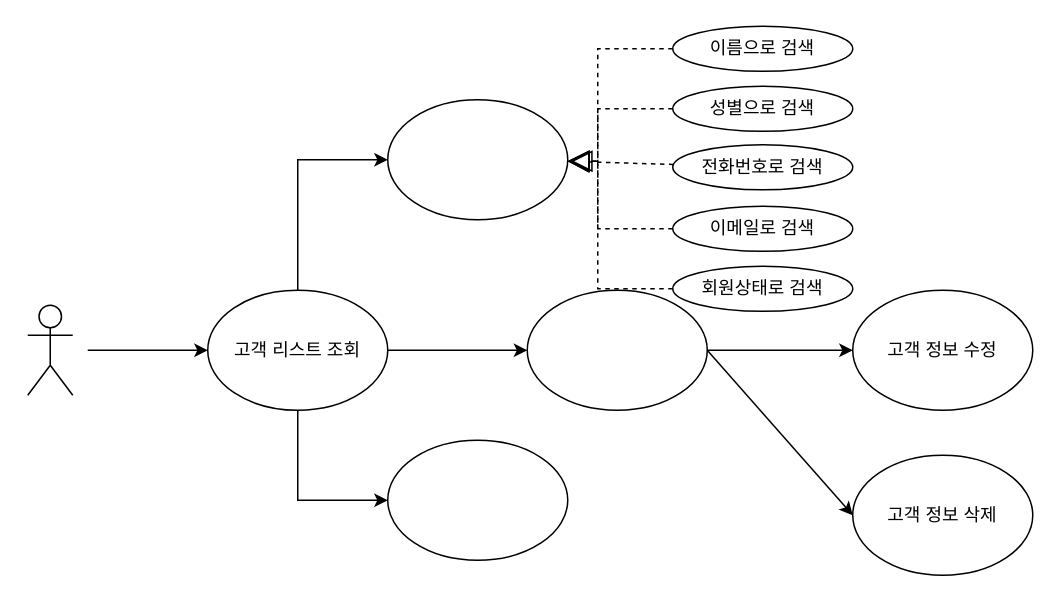
The diagram is 1059 pixels wide and 602 high, and some of its shapes have lost their labels. The centre of each missing label's shape, as x and y in pixels:
고객 검색: the point at 477,159
관리자: the point at 49,349
신규 고객 등록: the point at 477,499
특정 고객 조회: the point at 616,349
